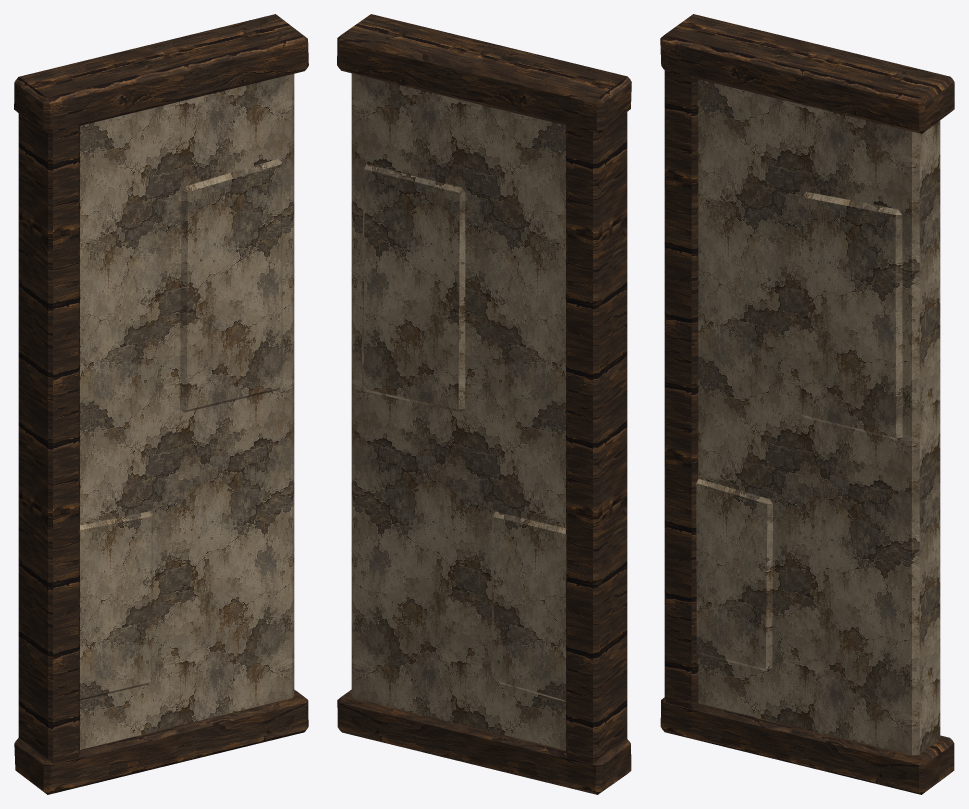
Rendered from wall_plaster_a.glb.
The picture shows the model from 3 angles, left to right: view 1: azimuth 30°, elevation 25°; view 2: azimuth 150°, elevation 25°; view 3: azimuth 330°, elevation 25°; orthographic projection.
Parts seen in each view (by area): view 1: wall_plaster_a; view 2: wall_plaster_a; view 3: wall_plaster_a.
Boxes of the visible parts, bbox=[...] form: wall_plaster_a: bbox=[14, 14, 308, 794]; wall_plaster_a: bbox=[337, 14, 631, 794]; wall_plaster_a: bbox=[660, 14, 954, 794].
Bounding box in the file's own units: 0.9982 × 2.5 × 0.2196.
Materials: 2 (2 with a texture image).
